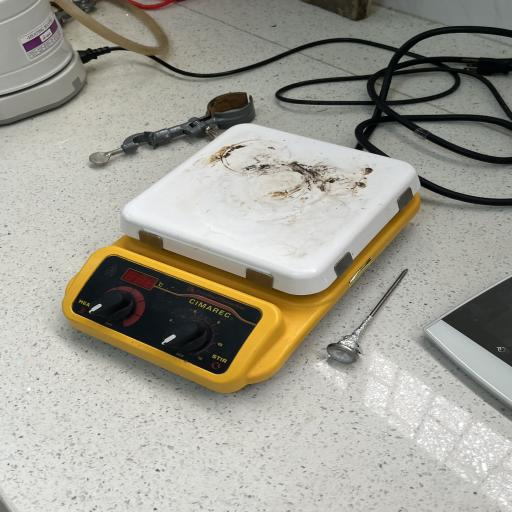Plancha_Agitacion_Cimarec: (52, 112, 438, 401)
